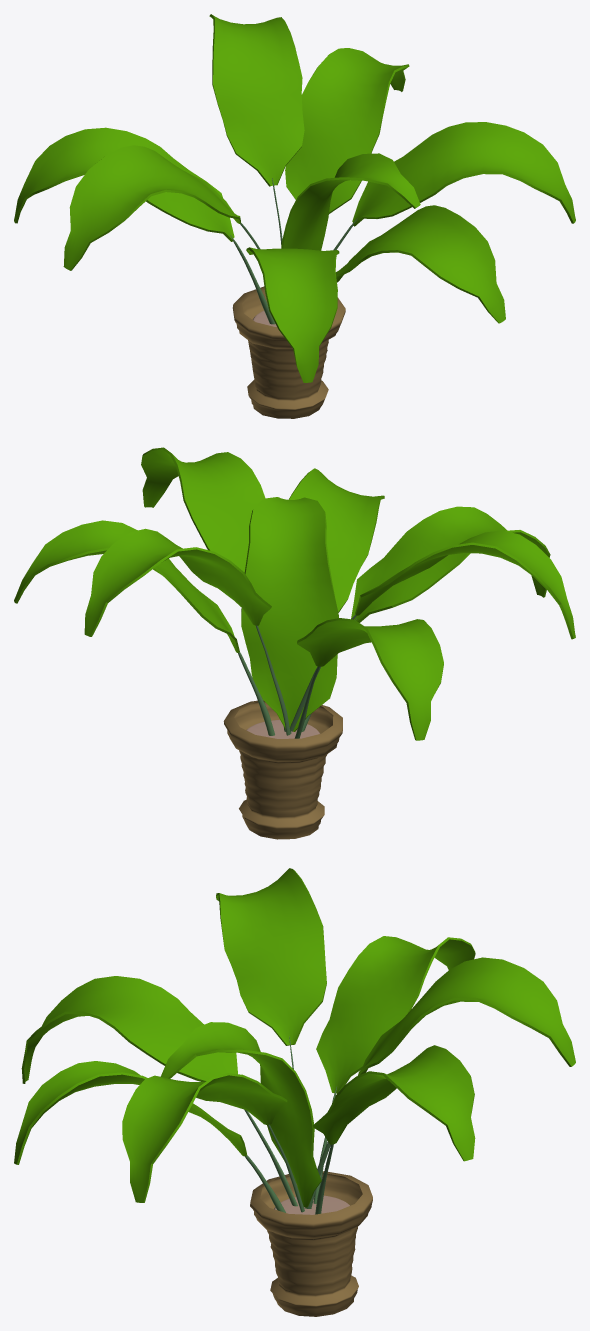
Rendered from Pot with Plant.fbx.
3 renders of one model, top to bottom at view 1: azimuth 30°, elevation 25°; view 2: azimuth 150°, elevation 25°; view 3: azimuth 270°, elevation 25°, orthographic. The views are drawn at different scales.
Parts seen in each view (by area): view 1: palmPotted1Leaf, palmPotted1Flower, palmPotted1Main; view 2: palmPotted1Leaf, palmPotted1Flower, palmPotted1Main, pCylinder1; view 3: palmPotted1Leaf, palmPotted1Flower, palmPotted1Main, pCylinder1.
Boxes of the visible parts, bbox=[...] form: palmPotted1Leaf: bbox=[14, 14, 575, 382]; palmPotted1Flower: bbox=[232, 286, 345, 418]; palmPotted1Main: bbox=[230, 178, 357, 324]; palmPotted1Leaf: bbox=[14, 447, 575, 740]; palmPotted1Flower: bbox=[223, 700, 342, 839]; palmPotted1Main: bbox=[238, 615, 356, 738]; pCylinder1: bbox=[246, 720, 319, 738]; palmPotted1Leaf: bbox=[14, 868, 575, 1207]; palmPotted1Flower: bbox=[250, 1171, 372, 1316]; palmPotted1Main: bbox=[244, 1036, 336, 1214]; pCylinder1: bbox=[274, 1195, 349, 1214].
Bounding box in the file's own units: 2.06 × 1.37 × 2.
